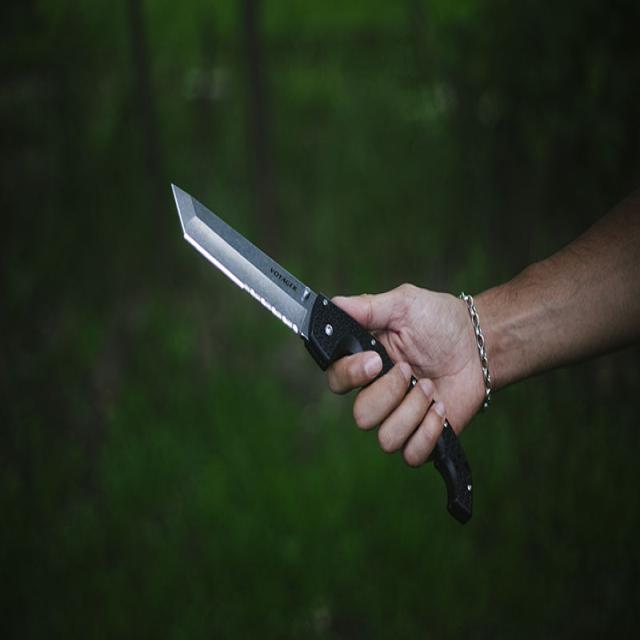knife: (168, 177, 480, 525)
